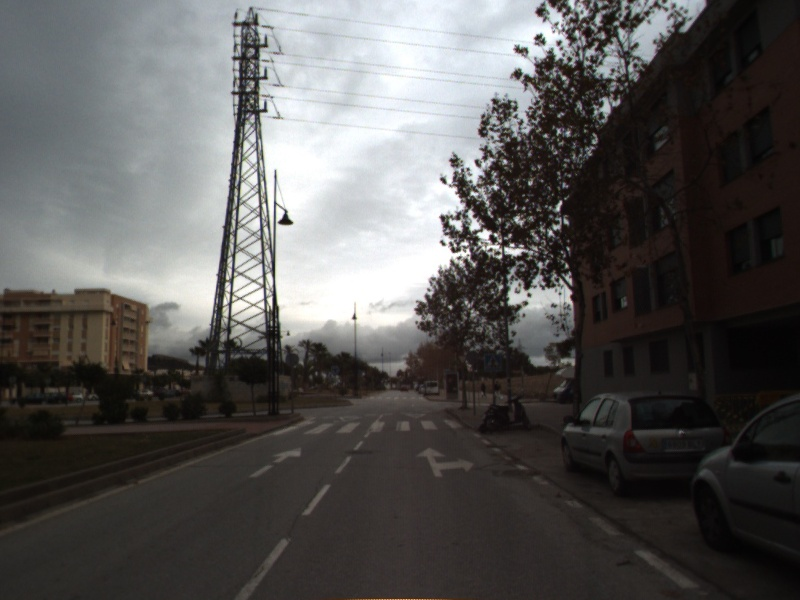STRAIGHT: (246, 445, 303, 480)
STRAIGHT_RIGHT: (413, 445, 477, 479)
